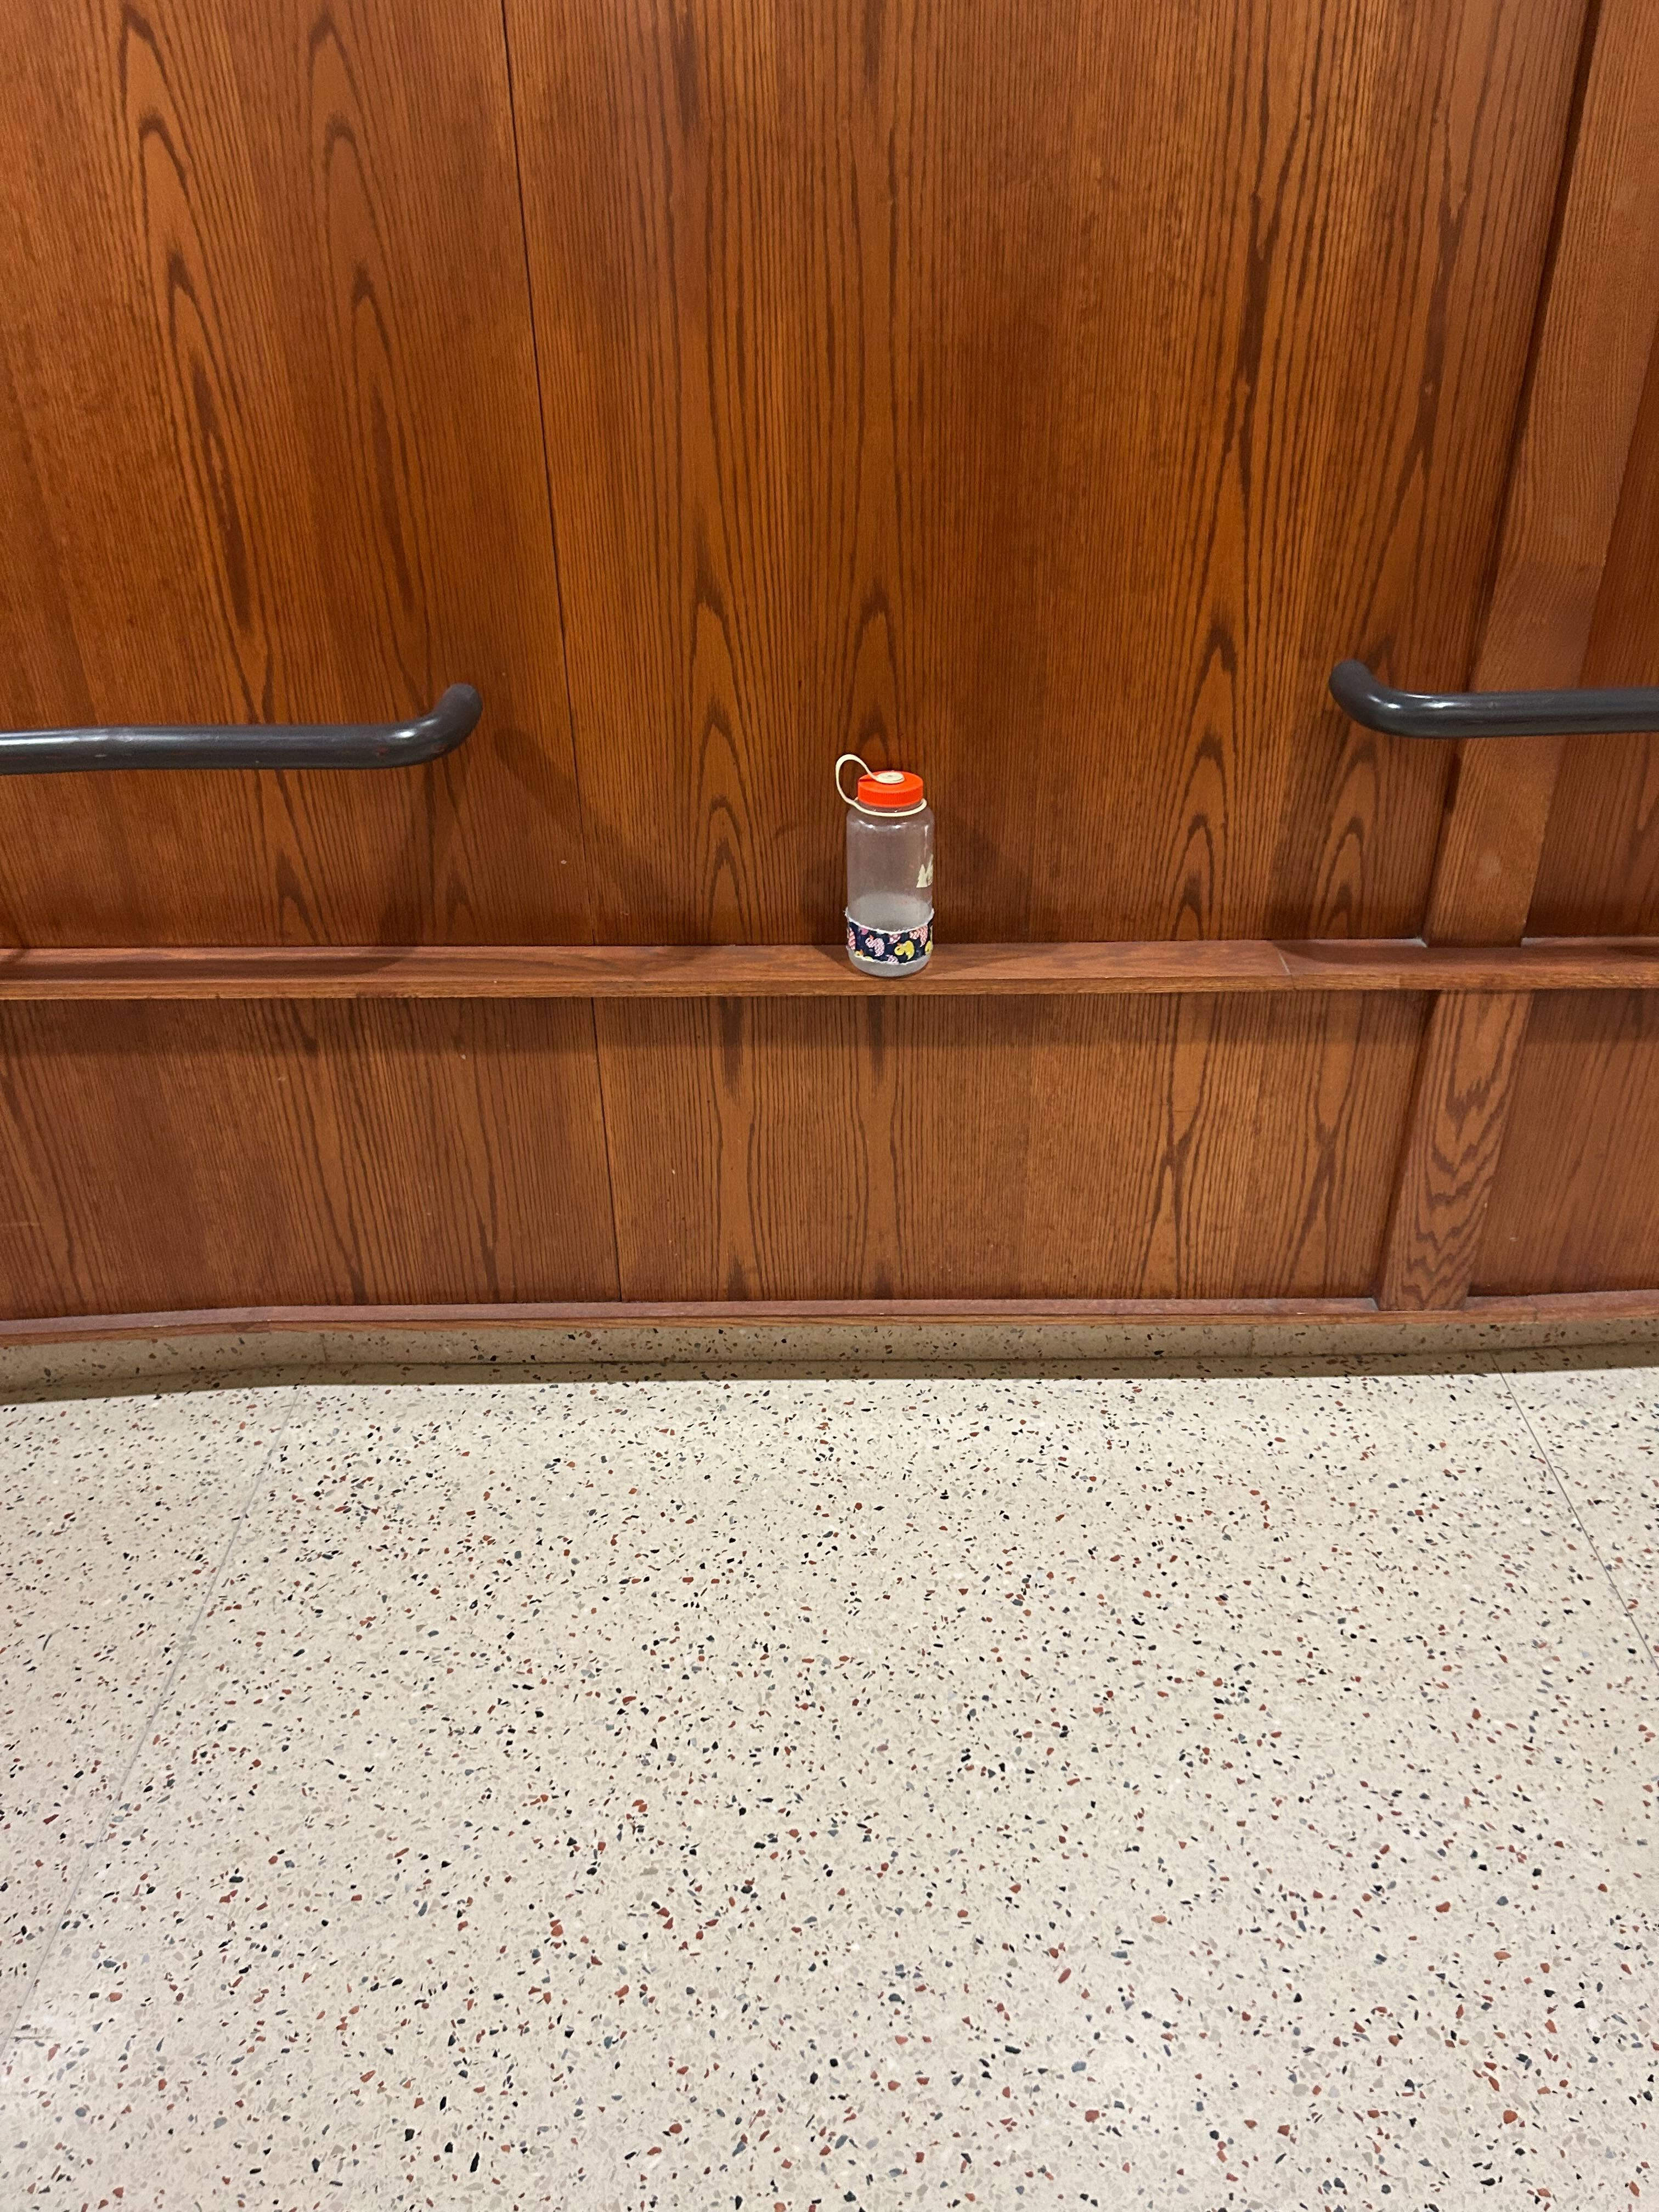bottle: (831, 740, 938, 986)
